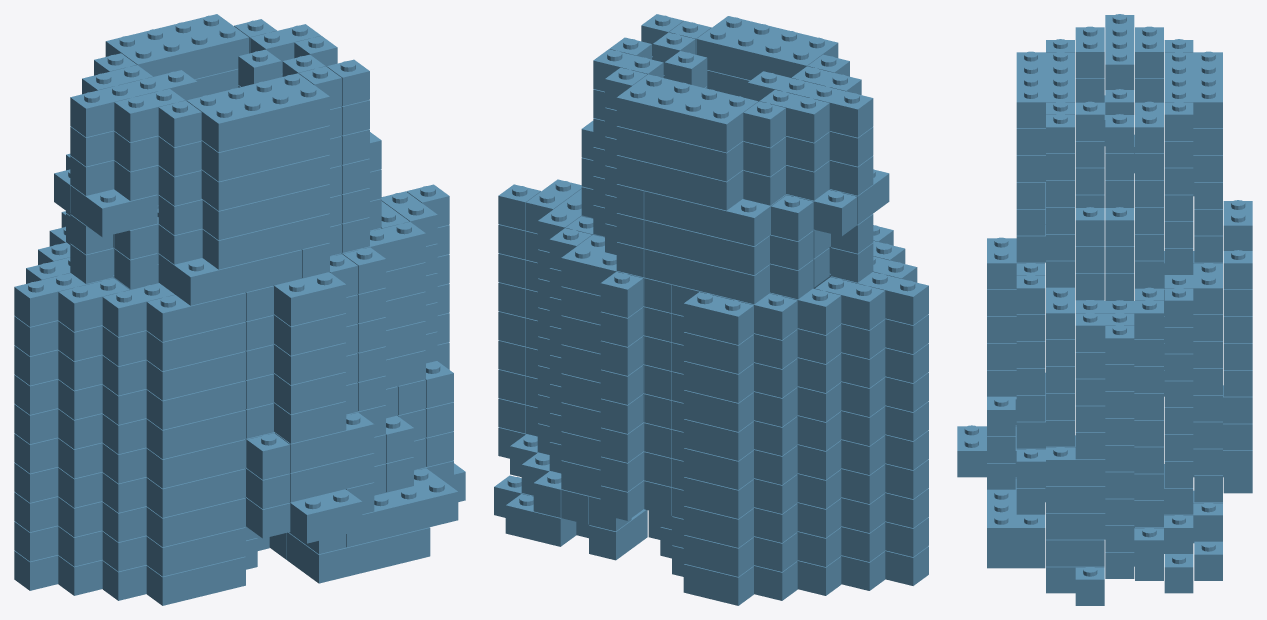
The model's file is 232_tower_L2.glb.
3 renders of one model, left to right at view 1: azimuth 30°, elevation 25°; view 2: azimuth 150°, elevation 25°; view 3: azimuth 270°, elevation 25°, orthographic. The views are drawn at different scales.
Size of the model in its own units: 14.98 by 16.13 by 9.98.
